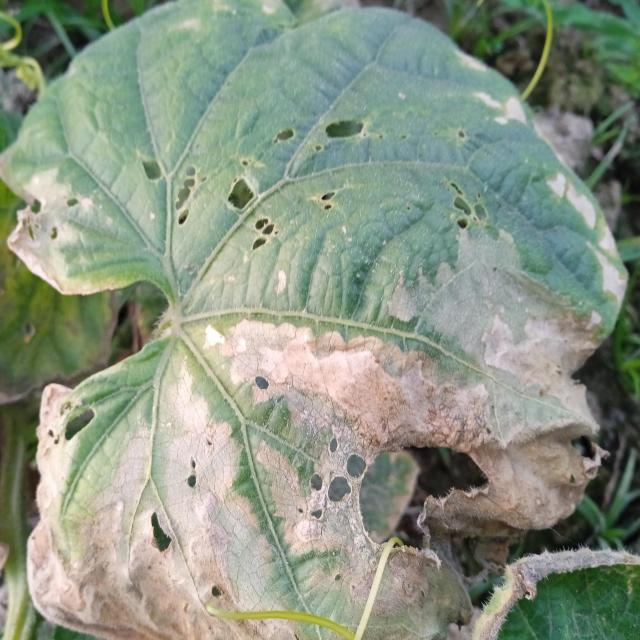cucumber_anthracnose: (25, 31, 624, 608)
